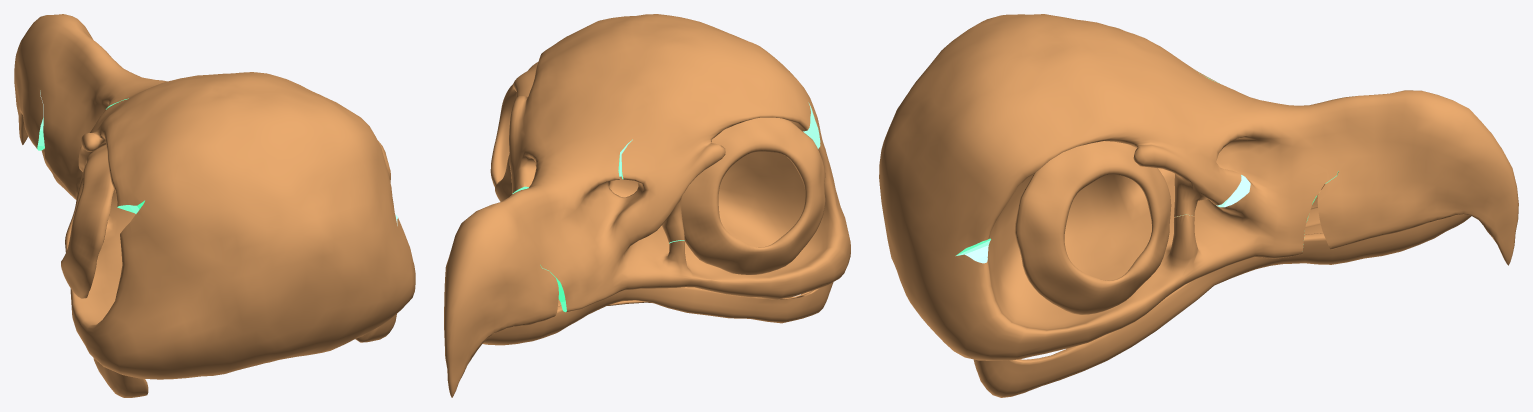
Rendered from eagle_skull_chipped.glb.
3 views of the same model, side by side, from view 1: azimuth 30°, elevation 25°; view 2: azimuth 150°, elevation 25°; view 3: azimuth 270°, elevation 25° (orthographic). The views are drawn at different scales.
Parts seen in each view (by area): view 1: eagle head state 1, eagle eye left, eagle jar; view 2: eagle head state 1, eagle eye left, eagle jar, eagle eye right; view 3: eagle head state 1, eagle eye right, eagle jar.
Boxes of the visible parts, x1,y1,x2,y2 form: eagle head state 1: [14, 14, 415, 379]; eagle eye left: [61, 144, 114, 298]; eagle jar: [41, 148, 396, 397]; eagle head state 1: [444, 14, 850, 397]; eagle eye left: [681, 117, 825, 274]; eagle jar: [482, 282, 833, 345]; eagle eye right: [490, 62, 537, 201]; eagle head state 1: [879, 14, 1518, 360]; eagle eye right: [1014, 141, 1171, 314]; eagle jar: [973, 189, 1471, 397].
Size of the model in its own units: 2.89 by 2.32 by 4.6.
